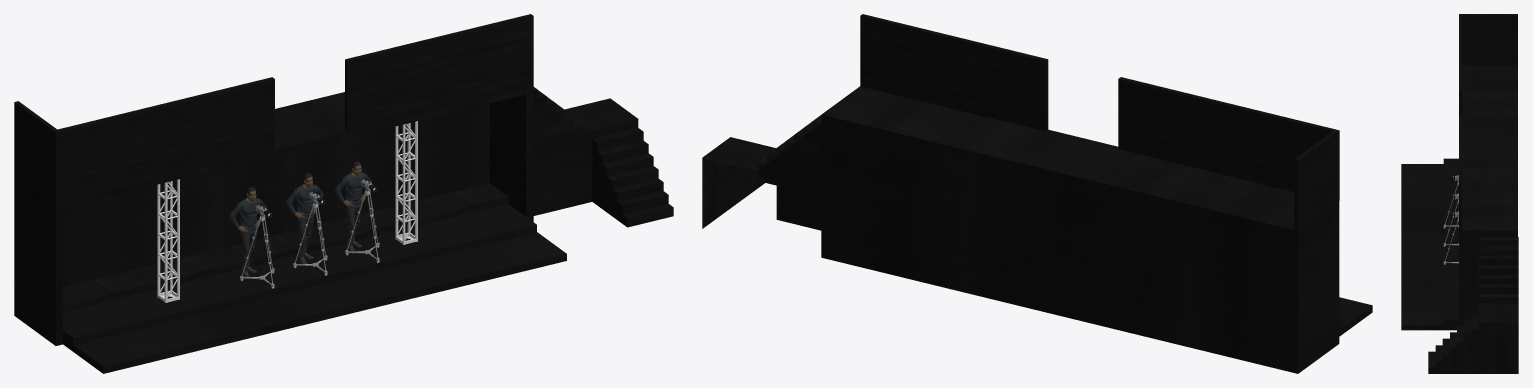
The model's file is console-opt.glb.
3 renders of one model, left to right at view 1: azimuth 30°, elevation 25°; view 2: azimuth 150°, elevation 25°; view 3: azimuth 270°, elevation 25°, orthographic. The views are drawn at different scales.
Visible parts, largest first — view 1: console_main, Cube.248, Scaffold.003_METAL_TRUSS_0.010, Iya_01.001, Circle.016; view 2: console_main, Cube.248; view 3: console_main, Cube.248, Circle.016, camera.001.
Boxes of the visible parts, x1=… form: console_main: x1=14, y1=86, x2=673, y2=373; Cube.248: x1=14, y1=14, x2=533, y2=202; Scaffold.003_METAL_TRUSS_0.010: x1=157, y1=121, x2=417, y2=302; Iya_01.001: x1=229, y1=161, x2=371, y2=279; Circle.016: x1=240, y1=189, x2=379, y2=288; console_main: x1=702, y1=86, x2=1372, y2=373; Cube.248: x1=860, y1=14, x2=1339, y2=230; console_main: x1=1401, y1=65, x2=1518, y2=373; Cube.248: x1=1459, y1=14, x2=1517, y2=230; Circle.016: x1=1443, y1=180, x2=1458, y2=264; camera.001: x1=1449, y1=174, x2=1458, y2=217.
Size of the model in its own units: 13.28 by 4.55 by 3.17.
Materials: 10 (10 with a texture image).
